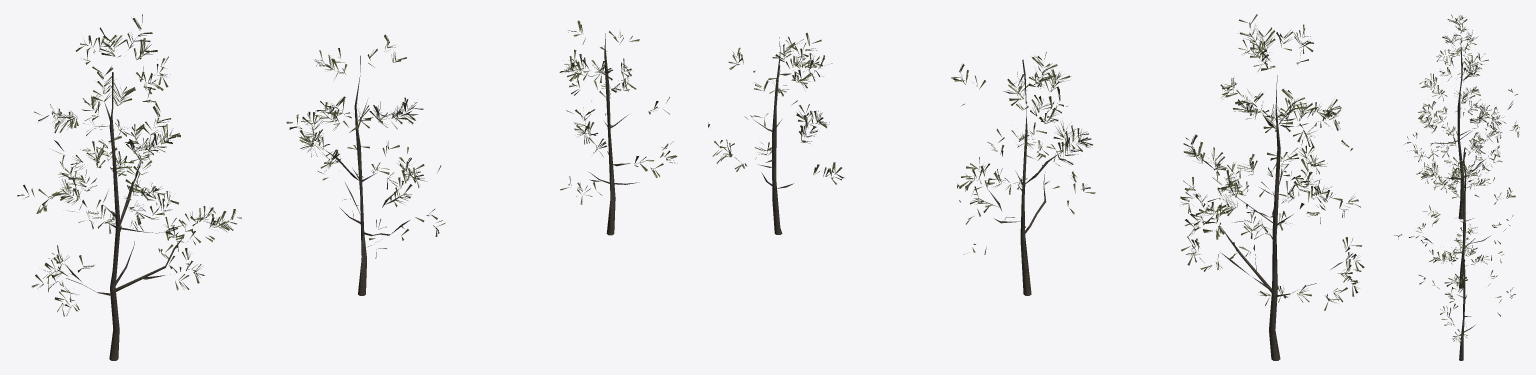
Rendered from pine_sapling_small.glb.
3 views of the same model, side by side, from view 1: azimuth 30°, elevation 25°; view 2: azimuth 150°, elevation 25°; view 3: azimuth 270°, elevation 25° (orthographic). The views are drawn at different scales.
Parts seen in each view (by area): view 1: pine_sapling_small_b; view 2: pine_sapling_small_b; view 3: pine_sapling_small_b.
Part boxes in pixels (x1,y1,x2,y2): pine_sapling_small_b: (17,14,677,360); pine_sapling_small_b: (708,14,1364,360); pine_sapling_small_b: (1394,14,1519,360).
Size of the model in its own units: 2.59 by 1.29 by 0.7492.
2 materials, 2 textured.
